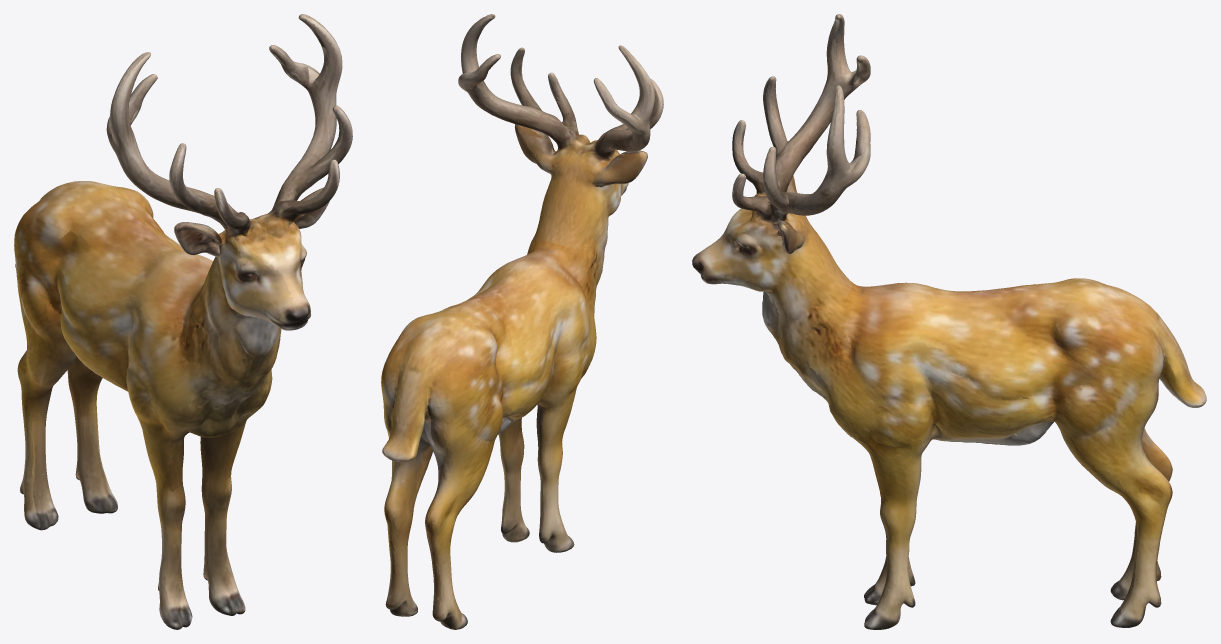
The model's file is jueru.glb.
3 renders of one model, left to right at view 1: azimuth 30°, elevation 25°; view 2: azimuth 150°, elevation 25°; view 3: azimuth 270°, elevation 25°, orthographic. The views are drawn at different scales.
Visible parts, largest first — view 1: geometry_0; view 2: geometry_0; view 3: geometry_0.
Boxes of the visible parts, bbox=[...] form: geometry_0: bbox=[14, 14, 352, 629]; geometry_0: bbox=[381, 14, 663, 629]; geometry_0: bbox=[692, 14, 1206, 629].
Size of the model in its own units: 1.6 by 3.99 by 3.3.
Materials: 1 (1 with a texture image).
